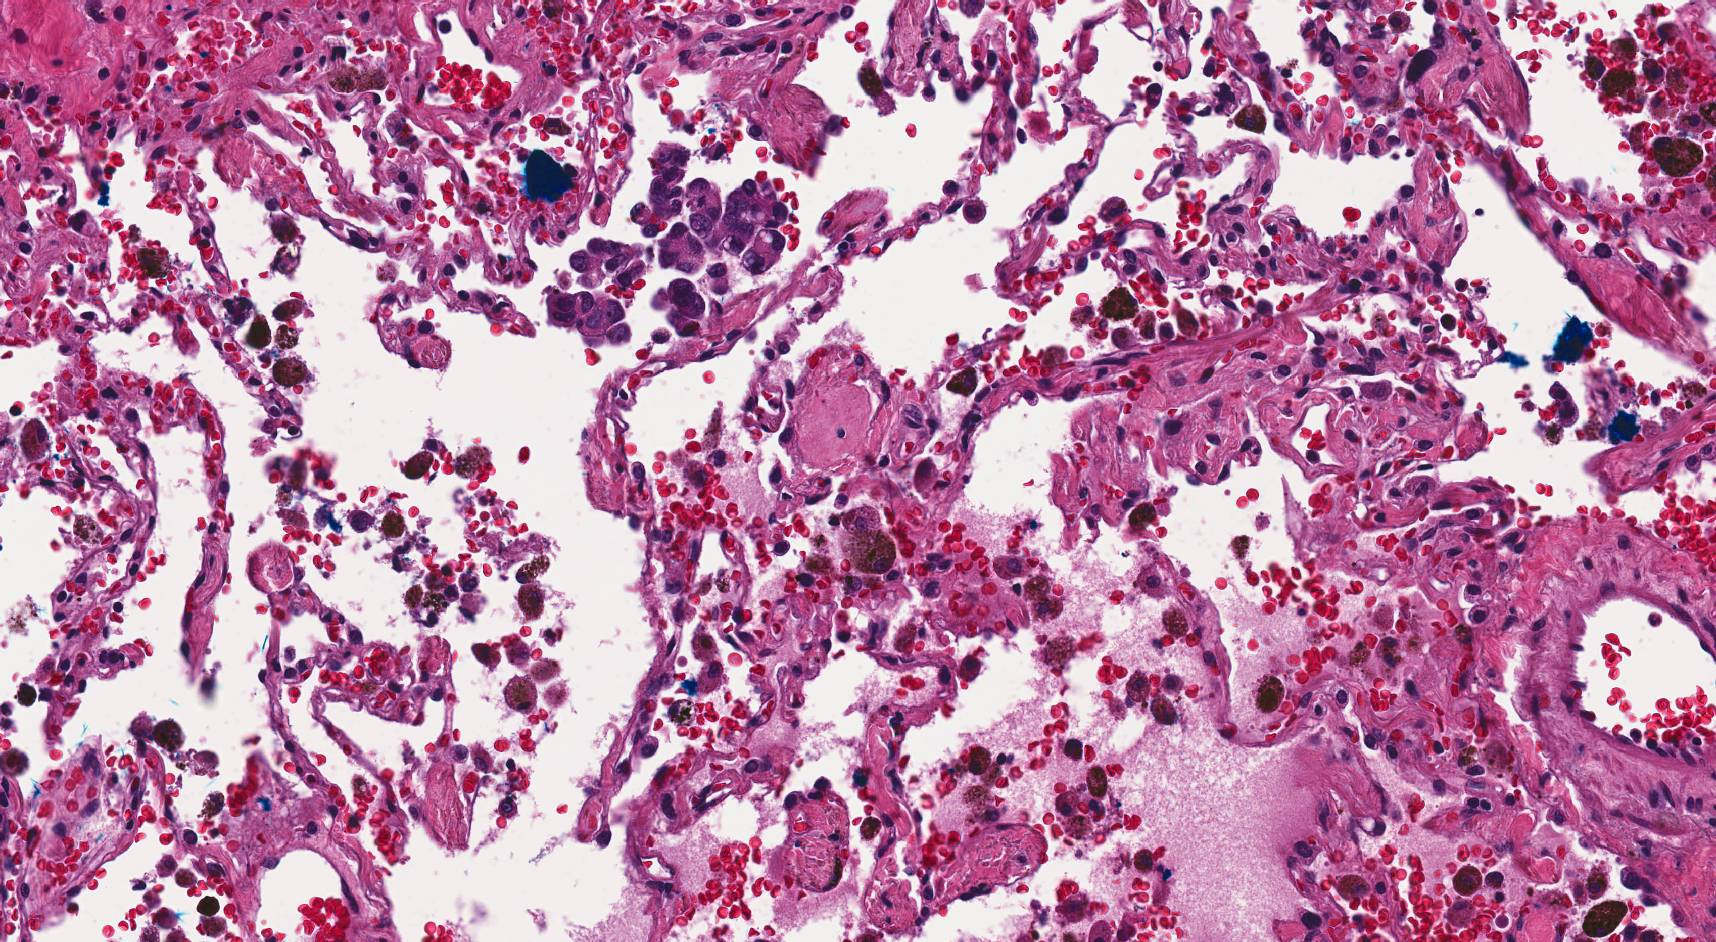stas: (631, 139, 786, 348), (565, 237, 656, 305), (542, 285, 633, 348)
